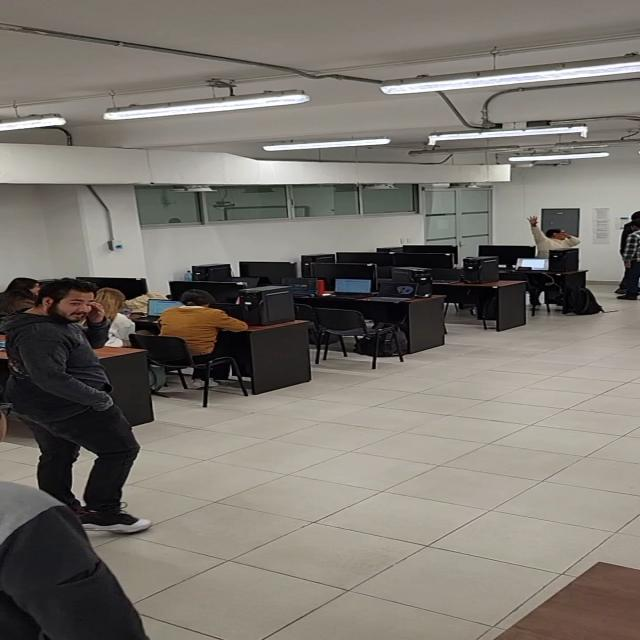Persona: (18, 282, 167, 542)
